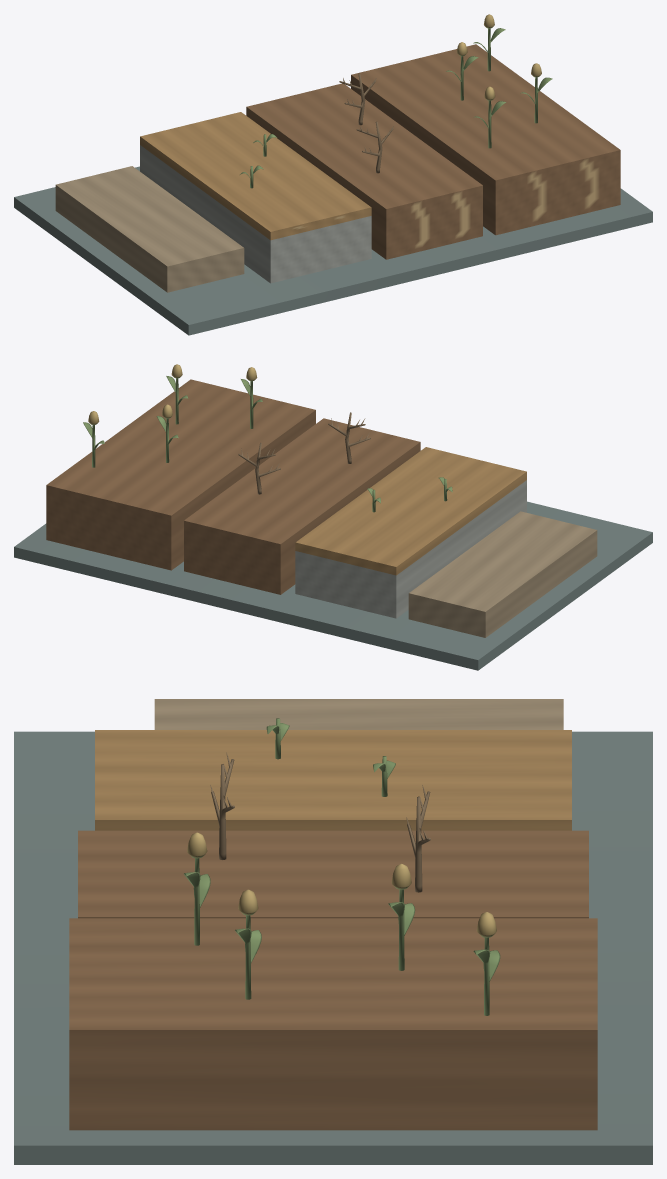
File: parables-soil.glb
The picture shows the model from 3 angles, top to bottom: view 1: azimuth 30°, elevation 25°; view 2: azimuth 150°, elevation 25°; view 3: azimuth 270°, elevation 25°; orthographic projection. The views are drawn at different scales.
Visible parts, largest first — view 1: parables-soil-parables-original-cut-loam.001, parables-soil-parables-modern-dark-neutral-base, parables-soil-parables-original-cut-loam, parables-soil-parables-original-selected-shallow-soil, parables-soil-parables-original-compacted-path, parables-soil-parables-original-continuous-rock-bed, parables-soil-parables-original-cereal-like-leaf.001, parables-soil-parables-original-woody-thorn-comparison; view 2: parables-soil-parables-original-cut-loam.001, parables-soil-parables-modern-dark-neutral-base, parables-soil-parables-original-cut-loam, parables-soil-parables-original-selected-shallow-soil, parables-soil-parables-original-compacted-path, parables-soil-parables-original-continuous-rock-bed, parables-soil-parables-original-cereal-like-leaf.001, parables-soil-parables-original-woody-thorn-comparison; view 3: parables-soil-parables-original-cut-loam.001, parables-soil-parables-modern-dark-neutral-base, parables-soil-parables-original-selected-shallow-soil, parables-soil-parables-original-cut-loam, parables-soil-parables-original-compacted-path, parables-soil-parables-original-cereal-like-leaf.001, parables-soil-parables-original-woody-thorn-comparison, parables-soil-parables-original-cereal-like-leaf.
Part boxes in pixels (box(x1,y1,x2,y2)): parables-soil-parables-original-cut-loam.001: box(351, 44, 620, 235); parables-soil-parables-modern-dark-neutral-base: box(14, 166, 652, 335); parables-soil-parables-original-cut-loam: box(246, 83, 482, 259); parables-soil-parables-original-selected-shallow-soil: box(140, 112, 371, 240); parables-soil-parables-original-compacted-path: box(55, 166, 244, 292); parables-soil-parables-original-continuous-rock-bed: box(140, 145, 371, 283); parables-soil-parables-original-cereal-like-leaf.001: box(446, 14, 552, 148); parables-soil-parables-original-woody-thorn-comparison: box(339, 73, 393, 173); parables-soil-parables-original-cut-loam.001: box(46, 379, 315, 570); parables-soil-parables-modern-dark-neutral-base: box(14, 501, 652, 670); parables-soil-parables-original-cut-loam: box(184, 418, 420, 594); parables-soil-parables-original-selected-shallow-soil: box(295, 447, 526, 575); parables-soil-parables-original-compacted-path: box(408, 511, 597, 637); parables-soil-parables-original-continuous-rock-bed: box(295, 480, 526, 618); parables-soil-parables-original-cereal-like-leaf.001: box(83, 364, 262, 467); parables-soil-parables-original-woody-thorn-comparison: box(238, 412, 370, 494); parables-soil-parables-original-cut-loam.001: box(69, 918, 597, 1130); parables-soil-parables-modern-dark-neutral-base: box(14, 731, 652, 1164); parables-soil-parables-original-selected-shallow-soil: box(95, 730, 571, 830); parables-soil-parables-original-cut-loam: box(78, 830, 588, 918); parables-soil-parables-original-compacted-path: box(154, 699, 563, 729); parables-soil-parables-original-cereal-like-leaf.001: box(184, 832, 500, 1015); parables-soil-parables-original-woody-thorn-comparison: box(210, 752, 430, 892); parables-soil-parables-original-cereal-like-leaf: box(266, 718, 395, 796).
Bounding box in the file's own units: 1.15 × 0.2995 × 0.75.
